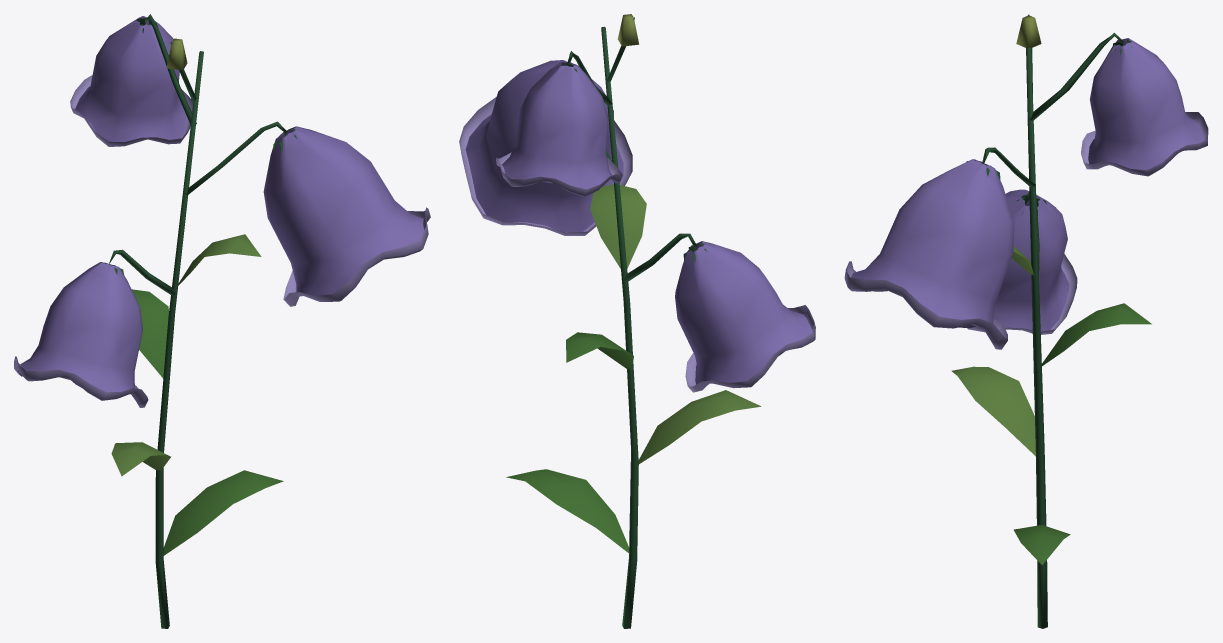
Rendered from meadow_bellflower.glb.
The picture shows the model from 3 angles, left to right: view 1: azimuth 30°, elevation 25°; view 2: azimuth 150°, elevation 25°; view 3: azimuth 270°, elevation 25°; orthographic projection. The views are drawn at different scales.
Visible parts, largest first — view 1: body; view 2: body; view 3: body.
Boxes of the visible parts, x1,y1,x2,y2 form: body: (14, 14, 430, 628); body: (459, 14, 815, 628); body: (844, 14, 1208, 628).
Bounding box in the file's own units: 0.3882 × 0.5902 × 0.3174.
